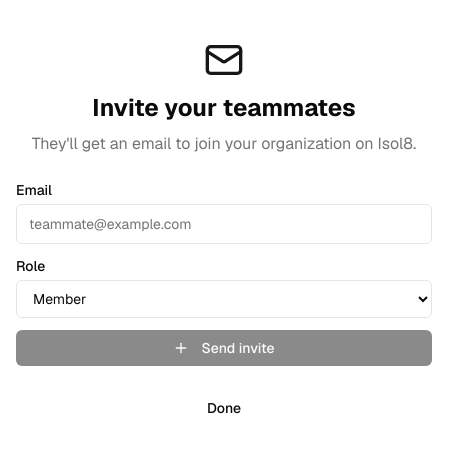
Test case: InviteTeammatesStep › renders the fallback message when 409 has no body.detail.message
In the field labelled "Email": (224, 224) [16, 204, 432, 244], type "x@example.com"
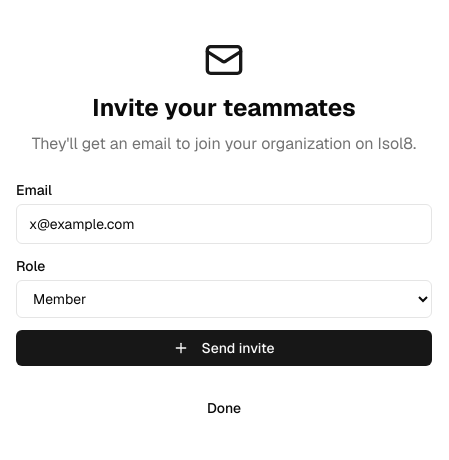
Click the button "Send invite": (224, 348) [16, 330, 432, 366]
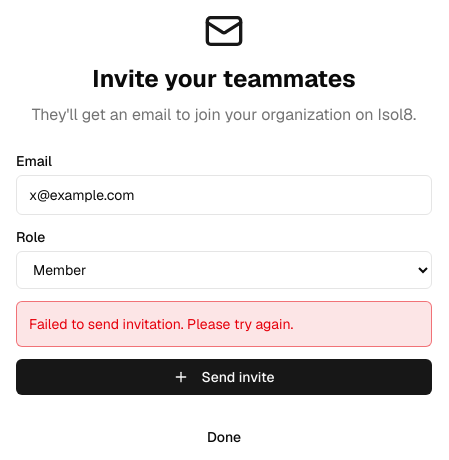
Expected: the text "Failed to send invitation. Please try again." is shown, [16, 301, 432, 347]
